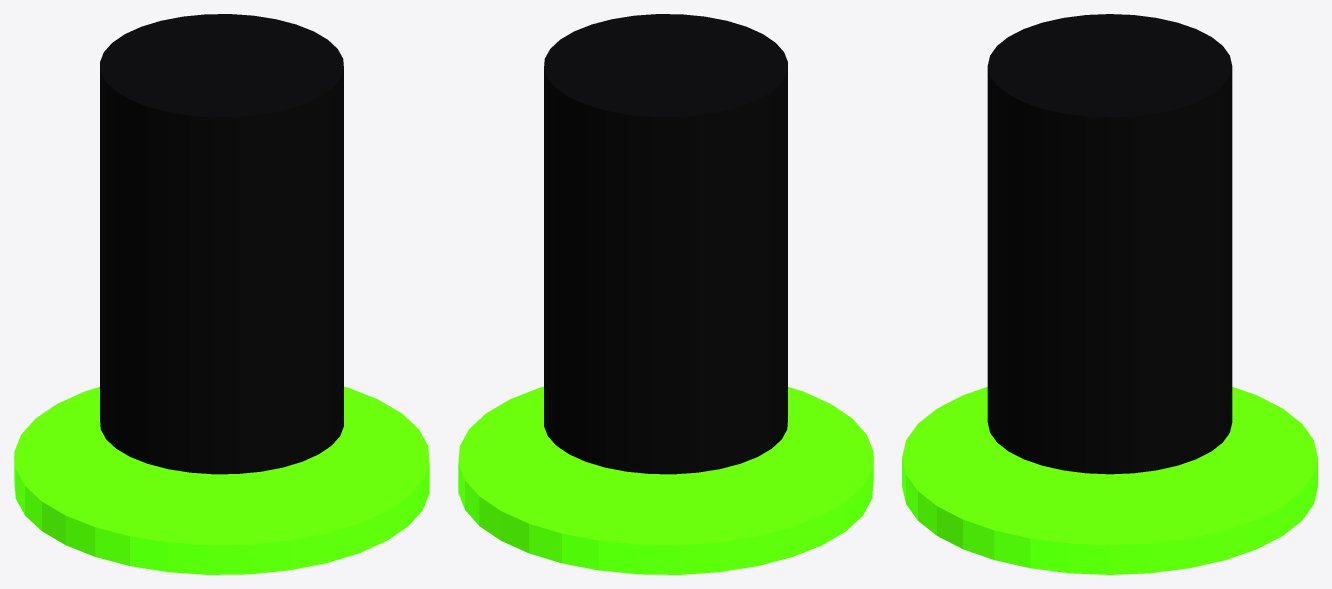
The model's file is tech_smart_speaker.dae.
3 renders of one model, left to right at view 1: azimuth 30°, elevation 25°; view 2: azimuth 150°, elevation 25°; view 3: azimuth 270°, elevation 25°, orthographic.
Parts seen in each view (by area): view 1: 08_10_Popular_Tech_Smart_Speaker_part_01, 08_10_Popular_Tech_Smart_Speaker_ROOT_base; view 2: 08_10_Popular_Tech_Smart_Speaker_part_01, 08_10_Popular_Tech_Smart_Speaker_ROOT_base; view 3: 08_10_Popular_Tech_Smart_Speaker_part_01, 08_10_Popular_Tech_Smart_Speaker_ROOT_base.
Boxes of the visible parts, box(x1,y1,x2,y2) form: 08_10_Popular_Tech_Smart_Speaker_part_01: box(100, 14, 343, 474); 08_10_Popular_Tech_Smart_Speaker_ROOT_base: box(14, 386, 429, 574); 08_10_Popular_Tech_Smart_Speaker_part_01: box(544, 14, 787, 474); 08_10_Popular_Tech_Smart_Speaker_ROOT_base: box(458, 386, 873, 574); 08_10_Popular_Tech_Smart_Speaker_part_01: box(987, 14, 1232, 474); 08_10_Popular_Tech_Smart_Speaker_ROOT_base: box(902, 387, 1317, 574).
Size of the model in its own units: 0.76 by 0.85 by 0.76.
